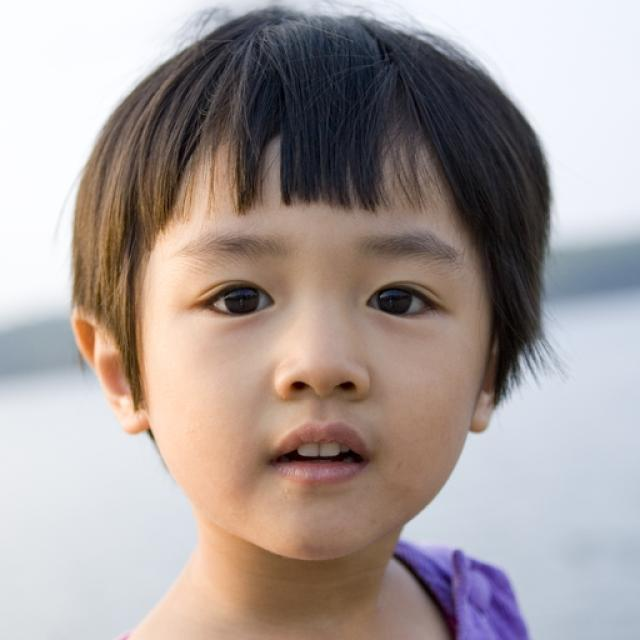neutral: (140, 152, 485, 558)
